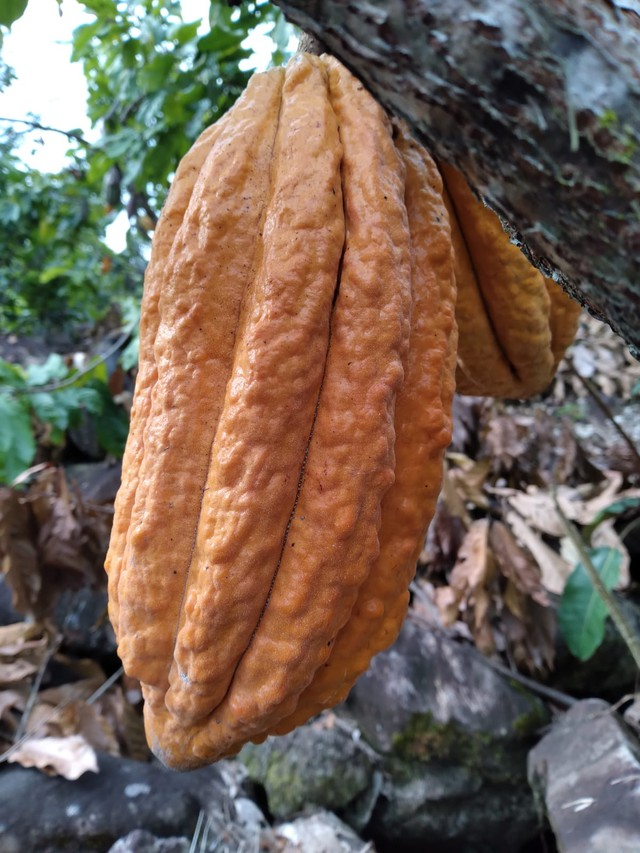Health: (98, 36, 465, 780)
